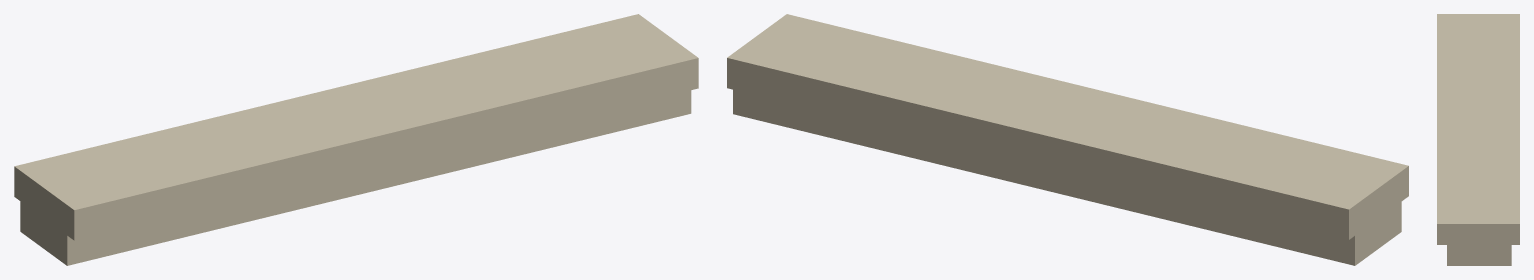
Rendered from cornice.glb.
3 renders of one model, left to right at view 1: azimuth 30°, elevation 25°; view 2: azimuth 150°, elevation 25°; view 3: azimuth 270°, elevation 25°, orthographic. The views are drawn at different scales.
Parts seen in each view (by area): view 1: cornice; view 2: cornice; view 3: cornice.
Boxes of the visible parts, x1,y1,x2,y2 form: cornice: [14, 14, 698, 265]; cornice: [727, 14, 1408, 265]; cornice: [1437, 14, 1519, 265].
Size of the model in its own units: 1.5 by 0.14 by 0.25.
1 material, 1 textured.
